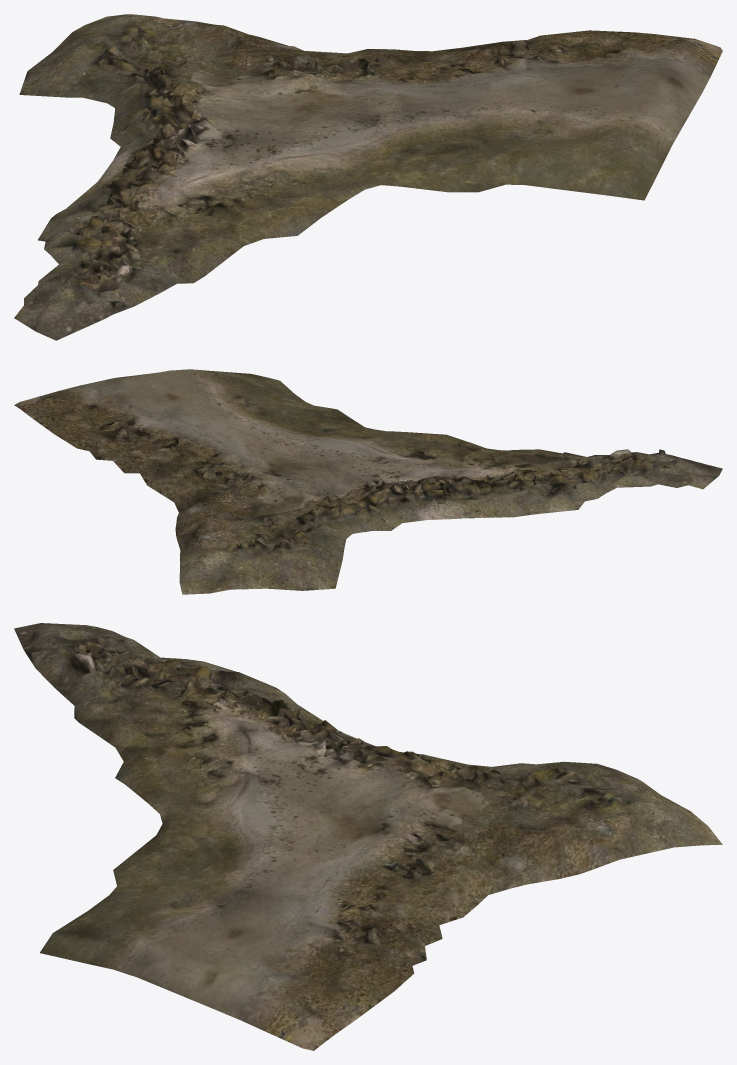
File: rock-a.glb
3 renders of one model, top to bottom at view 1: azimuth 30°, elevation 25°; view 2: azimuth 150°, elevation 25°; view 3: azimuth 270°, elevation 25°, orthographic. The views are drawn at different scales.
Parts seen in each view (by area): view 1: coast_rocks_01; view 2: coast_rocks_01; view 3: coast_rocks_01.
Part boxes in pixels (x1,y1,x2,y2): coast_rocks_01: (14, 14, 722, 340); coast_rocks_01: (14, 369, 722, 594); coast_rocks_01: (14, 623, 722, 1050).
Bounding box in the file's own units: 59.34 × 3.28 × 42.48.
1 material, 1 textured.
